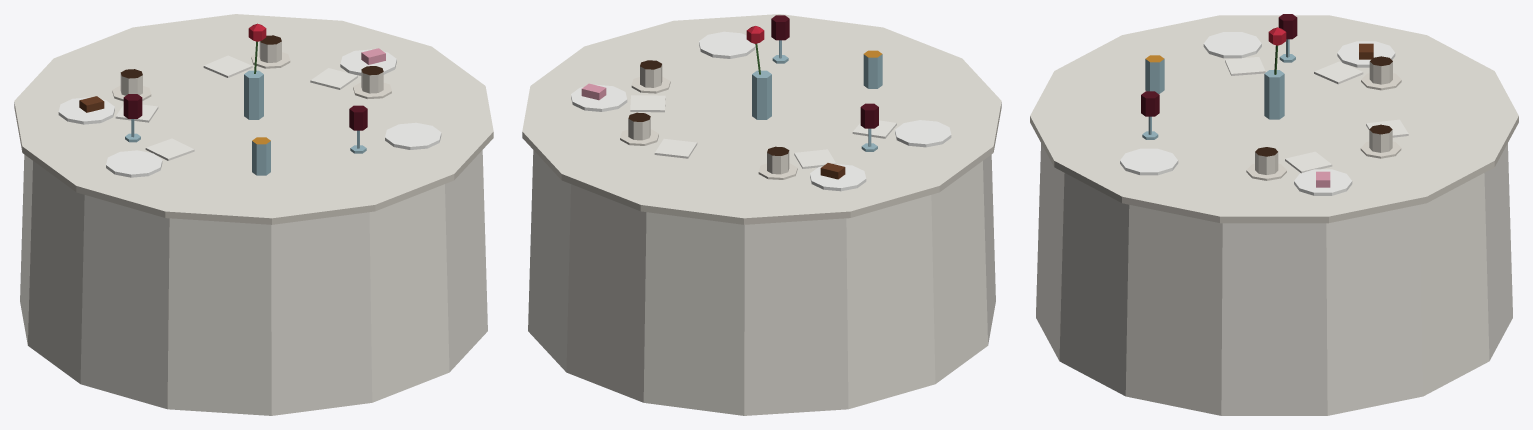
The model's file is Table2.obj.
3 renders of one model, left to right at view 1: azimuth 30°, elevation 25°; view 2: azimuth 150°, elevation 25°; view 3: azimuth 270°, elevation 25°, orthographic.
Parts seen in each view (by area): view 1: Table2; view 2: Table2; view 3: Table2.
Boxes of the visible parts, left/top/right/bottom form: Table2: left=14, top=14, right=493, bottom=415; Table2: left=522, top=14, right=1001, bottom=415; Table2: left=1030, top=14, right=1518, bottom=415.
Size of the model in its own units: 1.64 by 1.11 by 1.68.
Materials: 1 (1 with a texture image).
